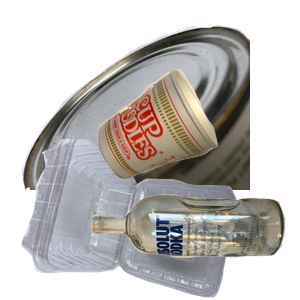glass: (88, 192, 300, 300)
metal: (19, 22, 259, 202)
plastic: (19, 139, 249, 300)
trash: (95, 67, 300, 238)
